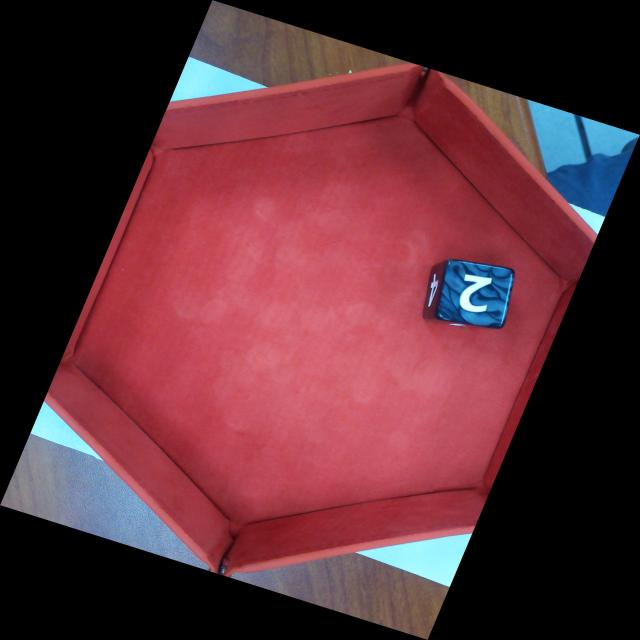dice: (436, 257, 514, 326)
